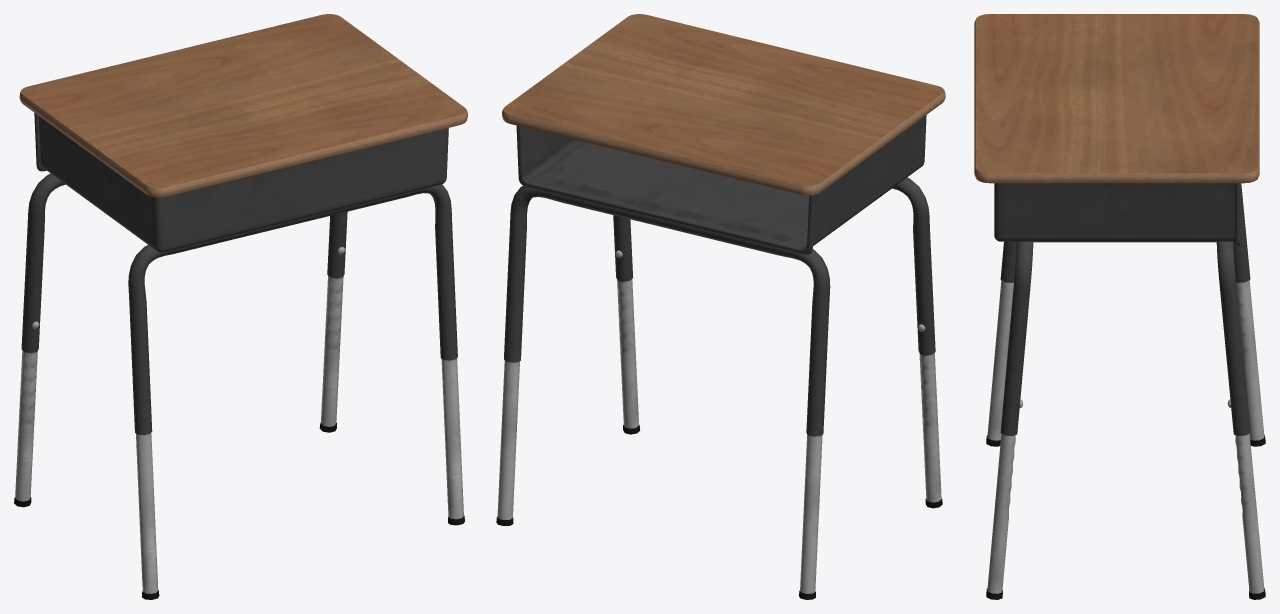
The model's file is schooldesk_01.glb.
3 views of the same model, side by side, from view 1: azimuth 30°, elevation 25°; view 2: azimuth 150°, elevation 25°; view 3: azimuth 270°, elevation 25° (orthographic). The views are drawn at different scales.
Parts seen in each view (by area): view 1: SchoolDesk_01; view 2: SchoolDesk_01; view 3: SchoolDesk_01.
Boxes of the visible parts, x1=… form: SchoolDesk_01: x1=14, y1=14, x2=467, y2=599; SchoolDesk_01: x1=496, y1=14, x2=945, y2=599; SchoolDesk_01: x1=974, y1=14, x2=1265, y2=599.
Size of the model in its own units: 0.7117 by 0.8826 by 0.546.
1 material, 1 textured.
